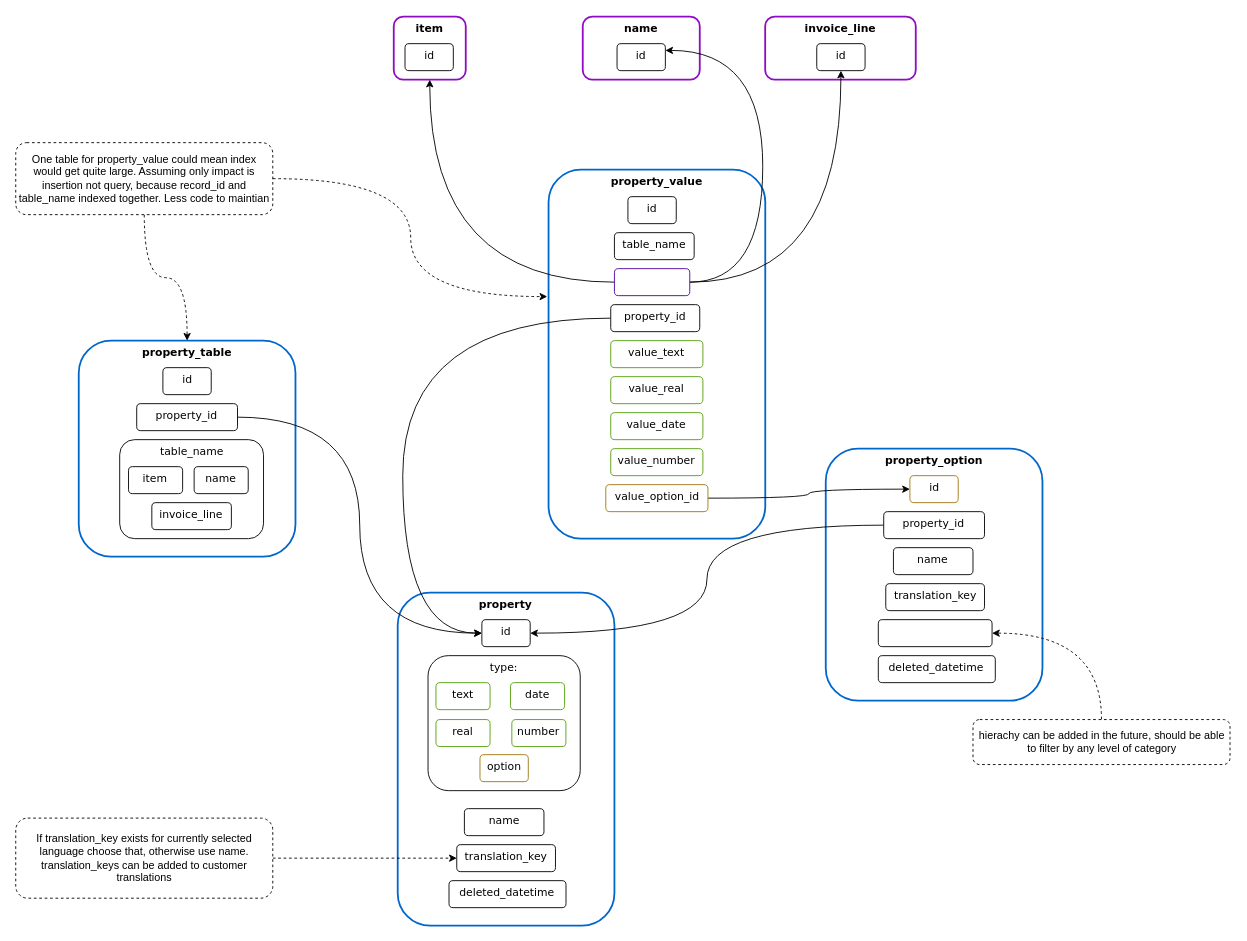
This 1247x941 diagram has some shape labels left out. Here are the shapes that lost their labels. From the top down, the centre of each, then its label:
(652,282): record_id
(934,633): parent_option_id
